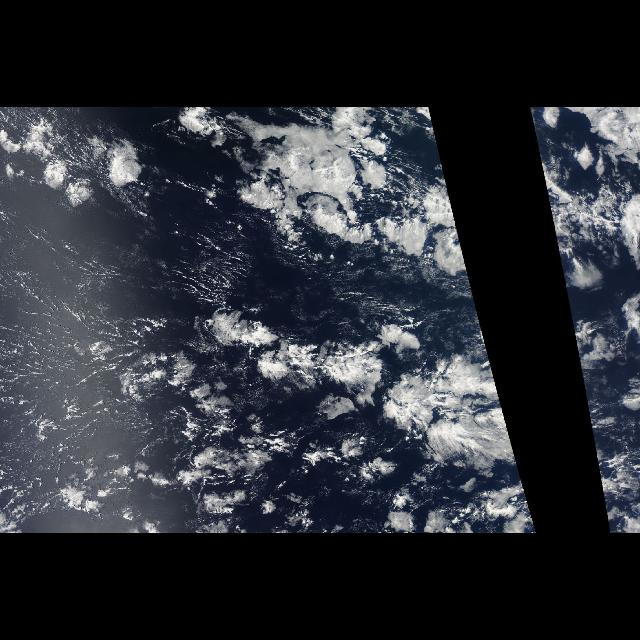Fish: (132, 296, 408, 530)
